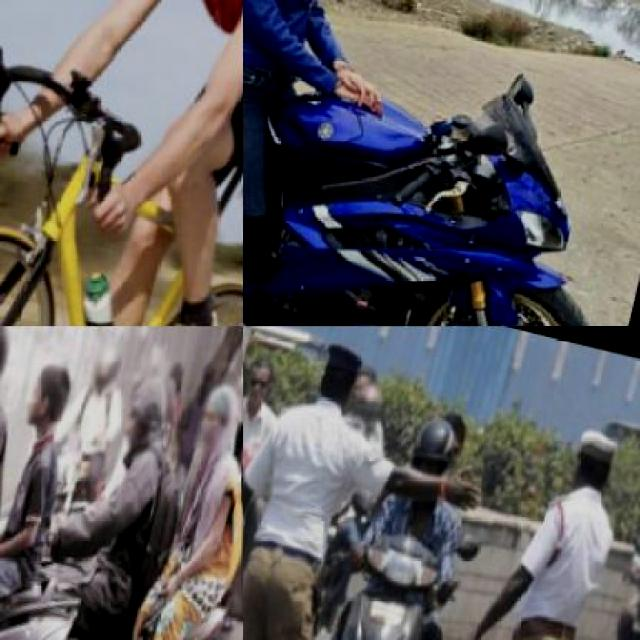With Helmet: (398, 411, 462, 502), (346, 378, 388, 440), (87, 336, 127, 396)
Without Helmet: (103, 355, 183, 471), (190, 377, 242, 460), (21, 362, 73, 438), (243, 343, 285, 405), (0, 326, 26, 412)
